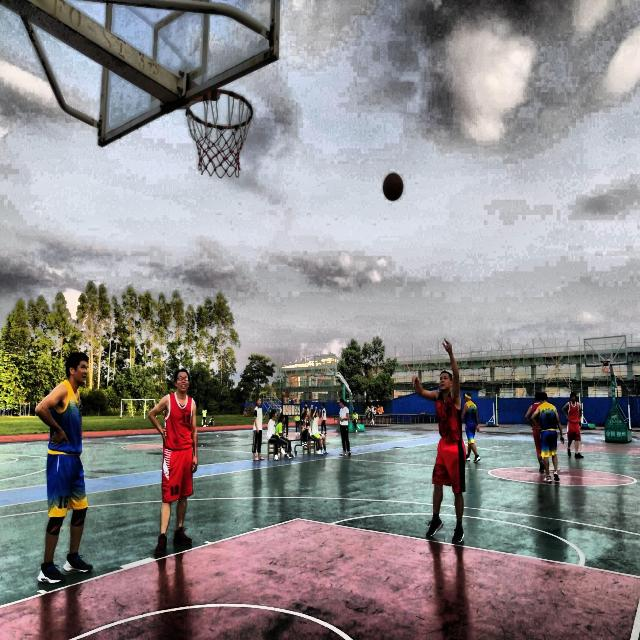board: (371, 164, 412, 208)
rim: (185, 90, 253, 178)
